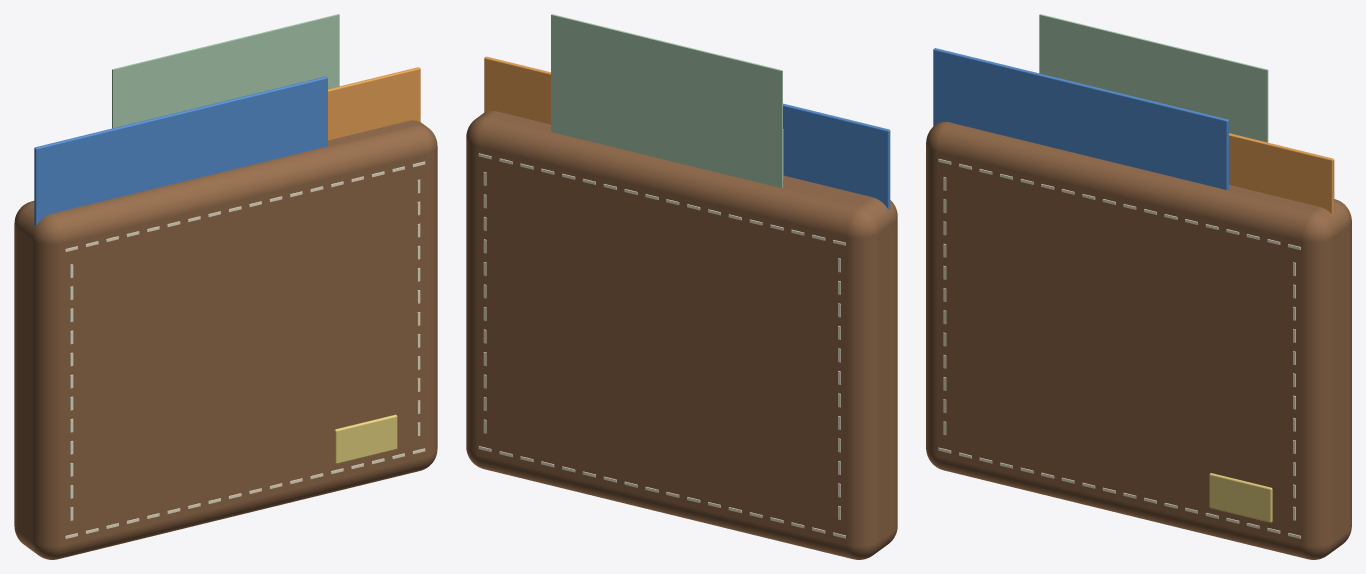
Rendered from wallet.glb.
The picture shows the model from 3 angles, left to right: view 1: azimuth 30°, elevation 25°; view 2: azimuth 150°, elevation 25°; view 3: azimuth 330°, elevation 25°; orthographic projection. The views are drawn at different scales.
Parts seen in each view (by area): view 1: Wallet; view 2: Wallet; view 3: Wallet.
Boxes of the visible parts, x1,y1,x2,y2 form: Wallet: (14, 14, 437, 559); Wallet: (466, 14, 897, 559); Wallet: (926, 14, 1351, 559).
Size of the model in its own units: 0.11 by 0.12 by 0.0189.
